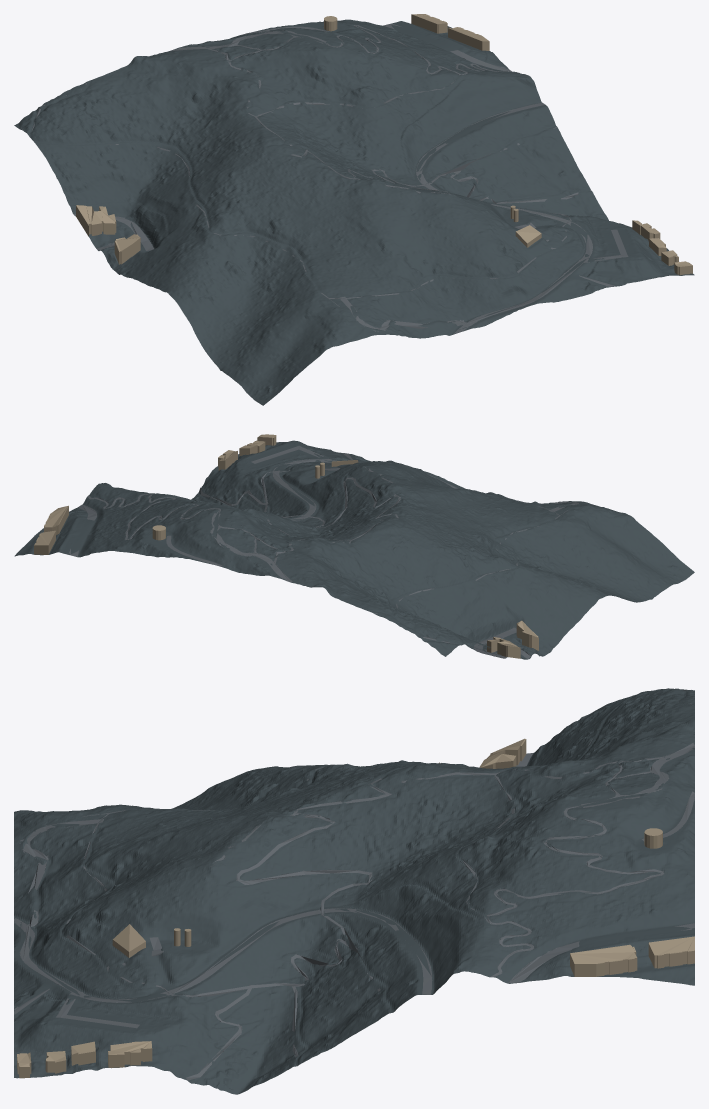
File: epsg26910-1426-10883.lod0.glb
3 views of the same model, one above another, from view 1: azimuth 30°, elevation 25°; view 2: azimuth 150°, elevation 25°; view 3: azimuth 270°, elevation 25° (orthographic). The views are drawn at different scales.
Parts seen in each view (by area): view 1: epsg26910-1426-10883-lod0; view 2: epsg26910-1426-10883-lod0; view 3: epsg26910-1426-10883-lod0.
Boxes of the visible parts, box(x1,y1,x2,y2) form: epsg26910-1426-10883-lod0: box(14, 14, 694, 405); epsg26910-1426-10883-lod0: box(14, 434, 694, 659); epsg26910-1426-10883-lod0: box(14, 688, 694, 1094).
Bounding box in the file's own units: 384 × 125 × 384.
